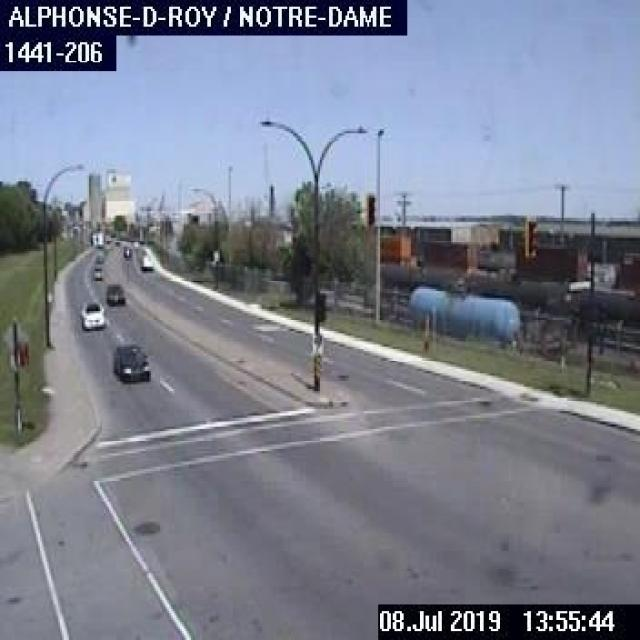vehicle: (111, 340, 151, 380), (78, 300, 105, 331), (103, 280, 126, 305), (136, 253, 154, 271), (90, 263, 103, 279), (122, 242, 131, 260)
